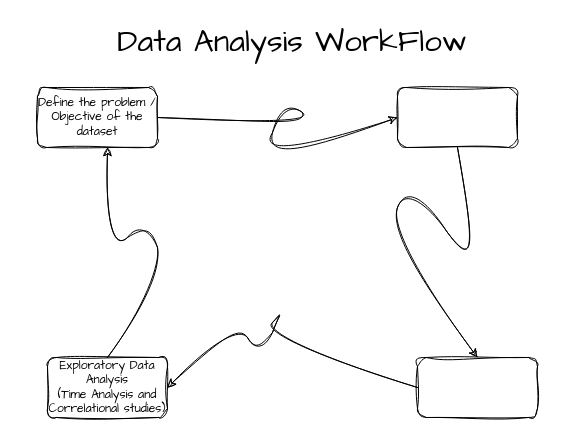
Some shapes in this 584 by 435 pixel diagram are drawn without their labels. Here are the shapes that lost their labels. From the top down, the box of each, then its label:
(396, 86, 518, 148): Load and Initial Inspection
(416, 356, 538, 418): Report writing and Posting to Github
